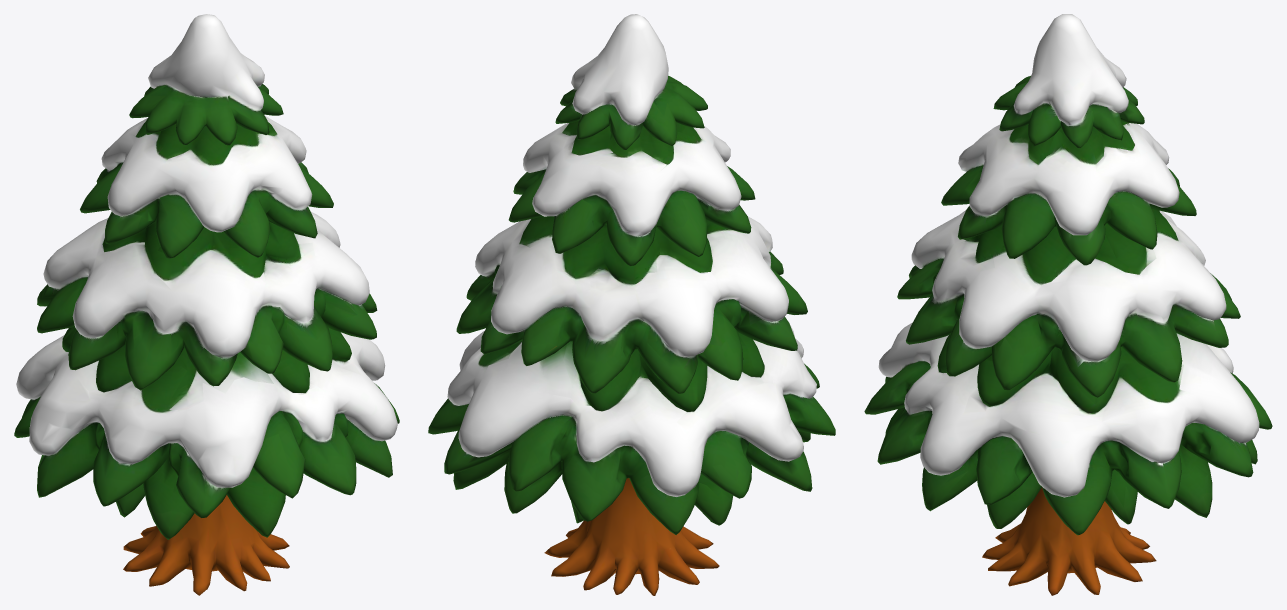
Rendered from pine_snow_b.glb.
3 views of the same model, side by side, from view 1: azimuth 30°, elevation 25°; view 2: azimuth 150°, elevation 25°; view 3: azimuth 270°, elevation 25° (orthographic).
Visible parts, largest first — view 1: tripo_node_a990c8d3-c5a7-4278-8b49-a7e2785dc1c7; view 2: tripo_node_a990c8d3-c5a7-4278-8b49-a7e2785dc1c7; view 3: tripo_node_a990c8d3-c5a7-4278-8b49-a7e2785dc1c7.
Part boxes in pixels (bbox=[...]): tripo_node_a990c8d3-c5a7-4278-8b49-a7e2785dc1c7: bbox=[14, 14, 399, 595]; tripo_node_a990c8d3-c5a7-4278-8b49-a7e2785dc1c7: bbox=[428, 14, 835, 595]; tripo_node_a990c8d3-c5a7-4278-8b49-a7e2785dc1c7: bbox=[864, 14, 1272, 595].
Size of the model in its own units: 3.31 by 5 by 3.38.
Materials: 1 (1 with a texture image).
